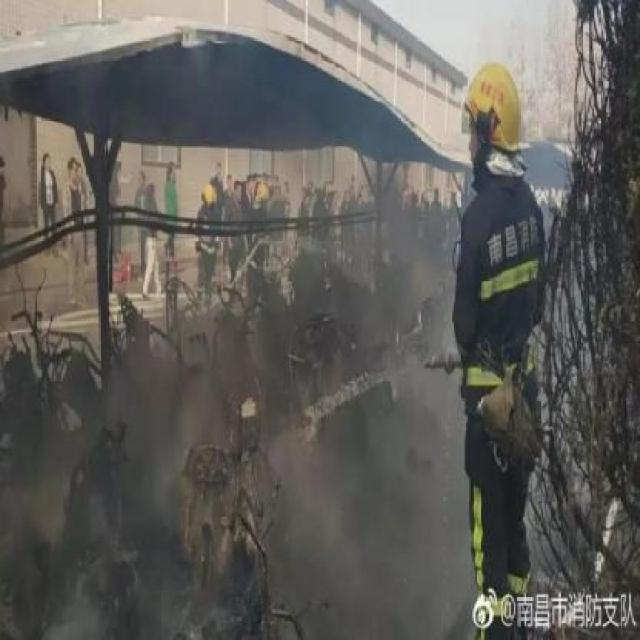Smoke: (269, 450, 471, 624), (182, 258, 333, 440), (122, 336, 216, 522), (8, 436, 76, 534)
